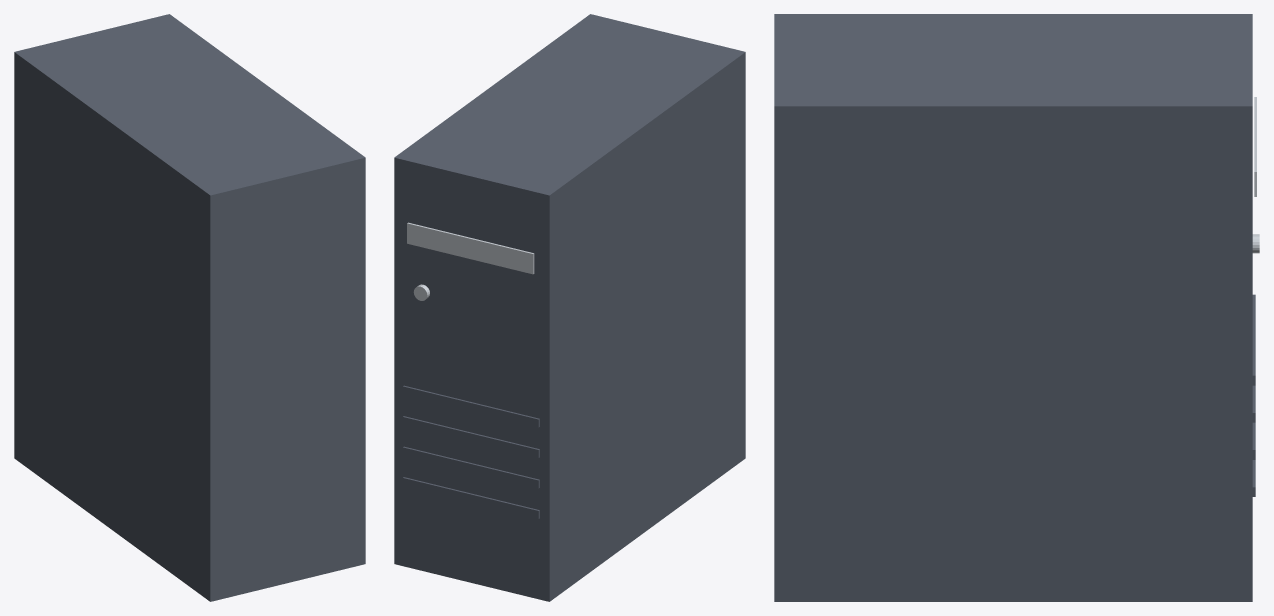
File: chip4-pc-tower.glb
The picture shows the model from 3 angles, left to right: view 1: azimuth 30°, elevation 25°; view 2: azimuth 150°, elevation 25°; view 3: azimuth 270°, elevation 25°; orthographic projection. The views are drawn at different scales.
Parts seen in each view (by area): view 1: black tower enclosure; view 2: black tower enclosure, dark front grille (×4), silver drive bezel; view 3: black tower enclosure.
Part boxes in pixels (x1,y1,x2,y2): black tower enclosure: (14,14,365,601); black tower enclosure: (394,14,745,601); dark front grille (×4): (402,385,539,518); silver drive bezel: (407,222,534,274); black tower enclosure: (774,14,1252,601).
Size of the model in its own units: 0.16 by 0.4 by 0.355.
